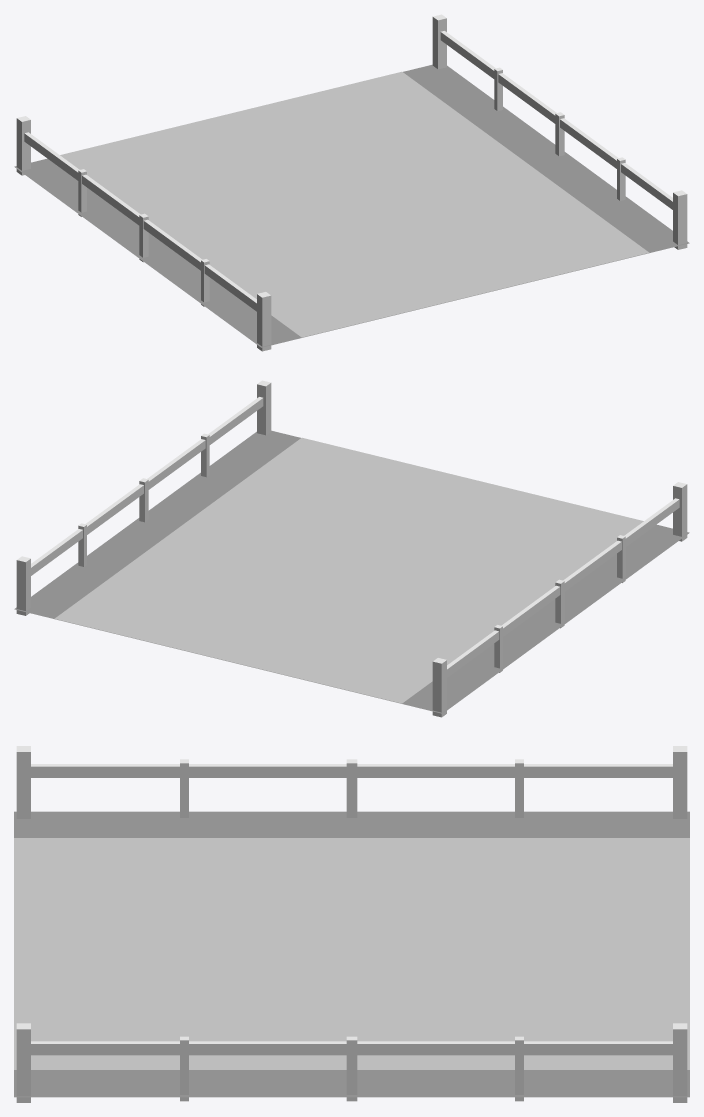
File: tile_for_home_1x1_018.fbx
3 renders of one model, top to bottom at view 1: azimuth 30°, elevation 25°; view 2: azimuth 150°, elevation 25°; view 3: azimuth 270°, elevation 25°, orthographic. The views are drawn at different scales.
Visible parts, largest first — view 1: tile_for_home_1x1_018; view 2: tile_for_home_1x1_018; view 3: tile_for_home_1x1_018.
Part boxes in pixels (left/top/right/bottom): tile_for_home_1x1_018: left=14, top=14, right=689, bottom=351; tile_for_home_1x1_018: left=14, top=380, right=689, bottom=717; tile_for_home_1x1_018: left=14, top=746, right=689, bottom=1102.
Size of the model in its own units: 800 by 95.9 by 800.
